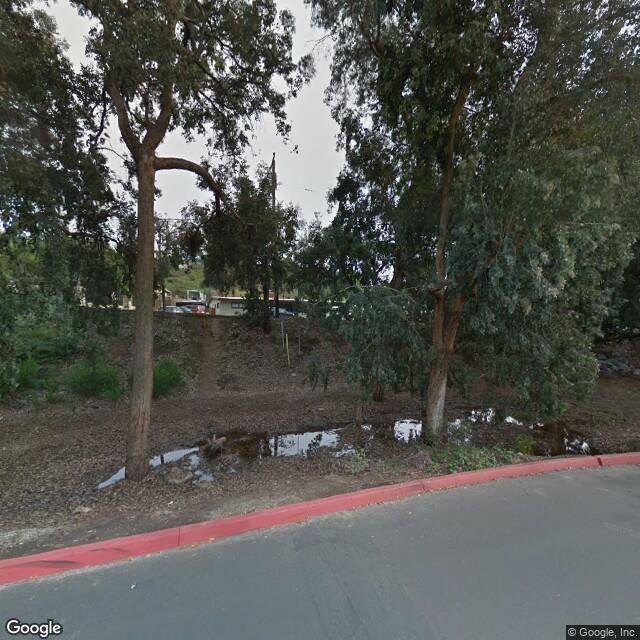litter: (125, 581, 140, 591), (167, 499, 175, 505)
